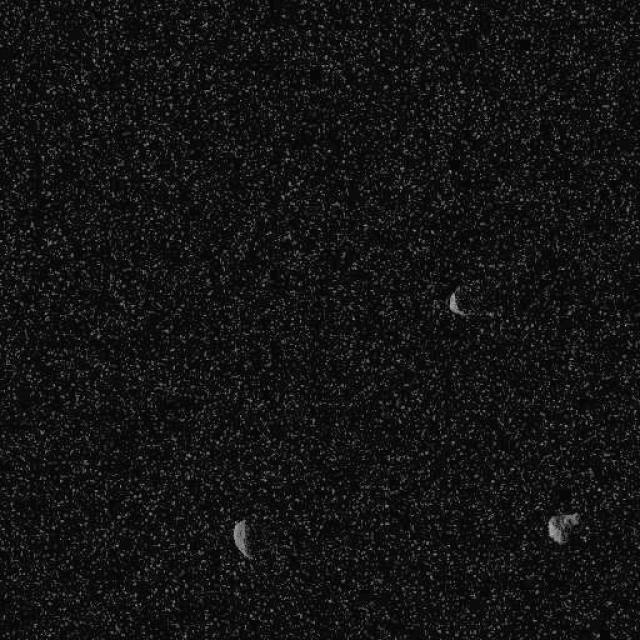D2: (546, 511, 580, 545), (231, 518, 254, 560), (447, 289, 468, 316)
